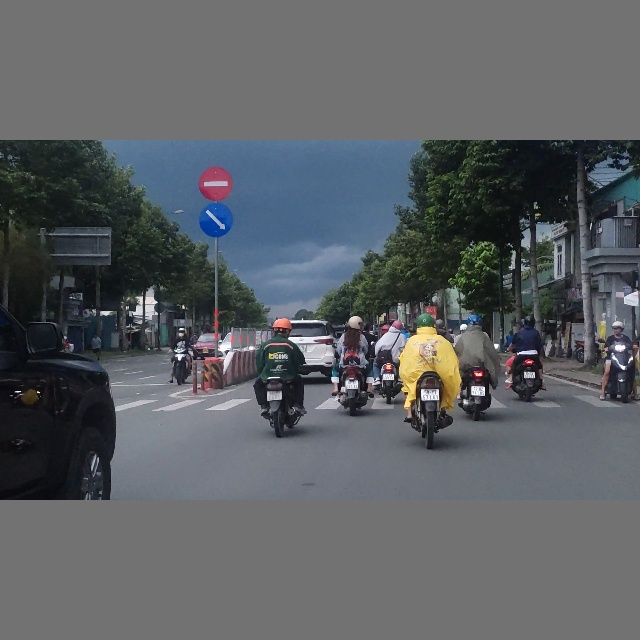P.102: (198, 166, 233, 201)
R.302a: (198, 203, 233, 237)
